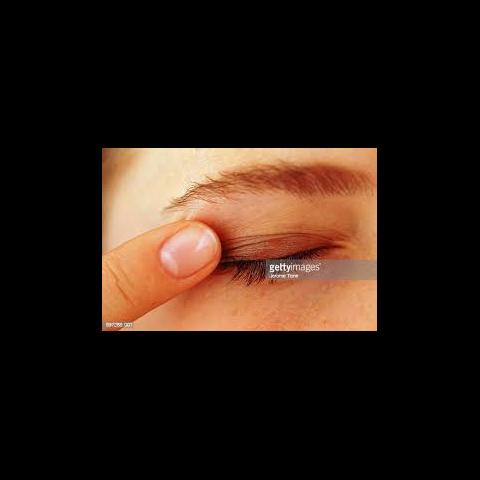closed: (160, 162, 372, 298)
